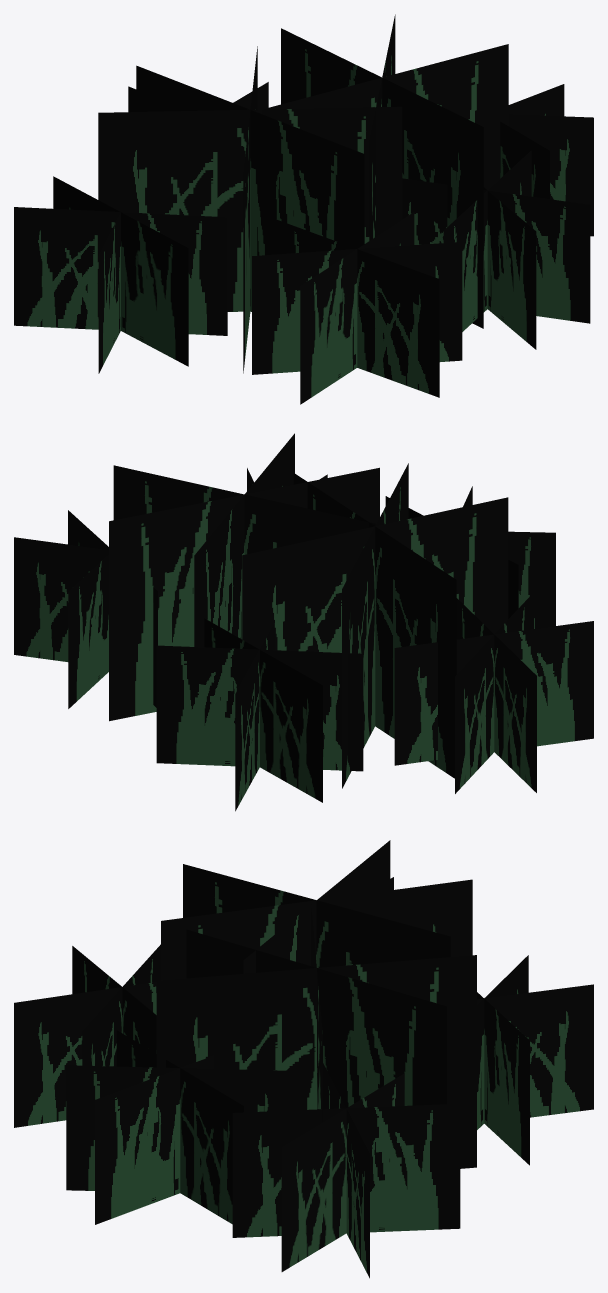
The model's file is RPM Grass 2.fbx.
The picture shows the model from 3 angles, top to bottom: view 1: azimuth 30°, elevation 25°; view 2: azimuth 150°, elevation 25°; view 3: azimuth 270°, elevation 25°; orthographic projection. The views are drawn at different scales.
Parts seen in each view (by area): view 1: Grass Patch; view 2: Grass Patch; view 3: Grass Patch.
Boxes of the visible parts, bbox=[...] form: Grass Patch: bbox=[14, 14, 593, 404]; Grass Patch: bbox=[14, 433, 593, 811]; Grass Patch: bbox=[14, 840, 593, 1278].
Size of the model in its own units: 919 by 329 by 813.
